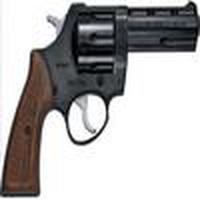gun: (4, 5, 200, 198)
